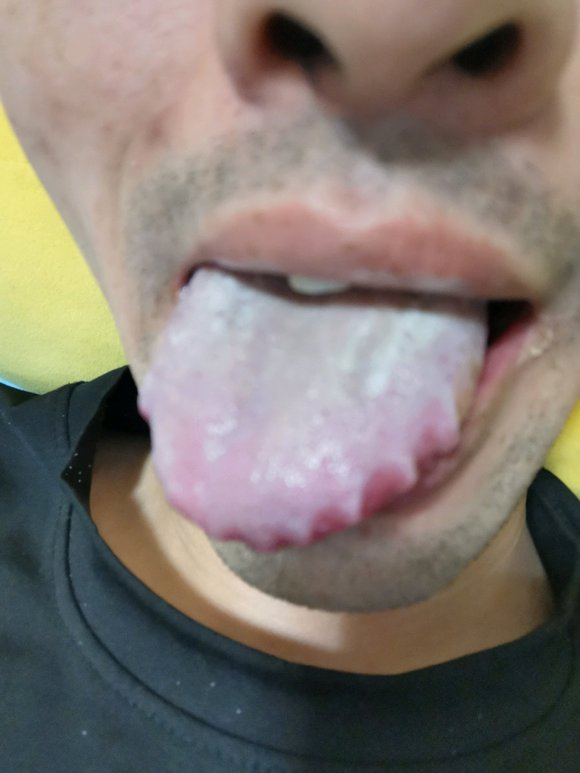baitaishe: (138, 266, 488, 553)
chihenshe: (220, 383, 455, 554)
